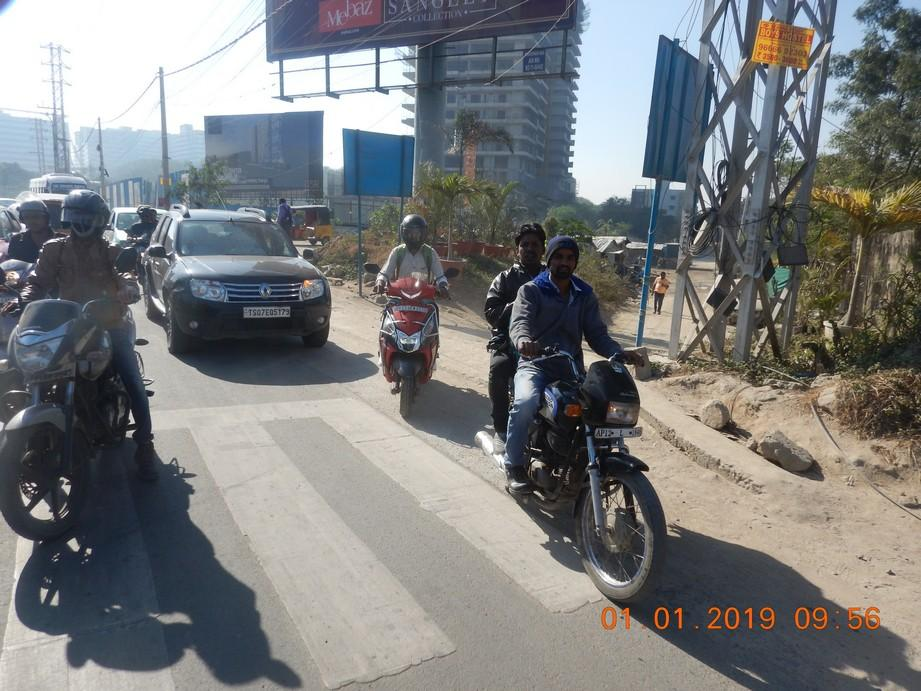plate: (593, 426, 643, 439), (391, 304, 430, 314)
